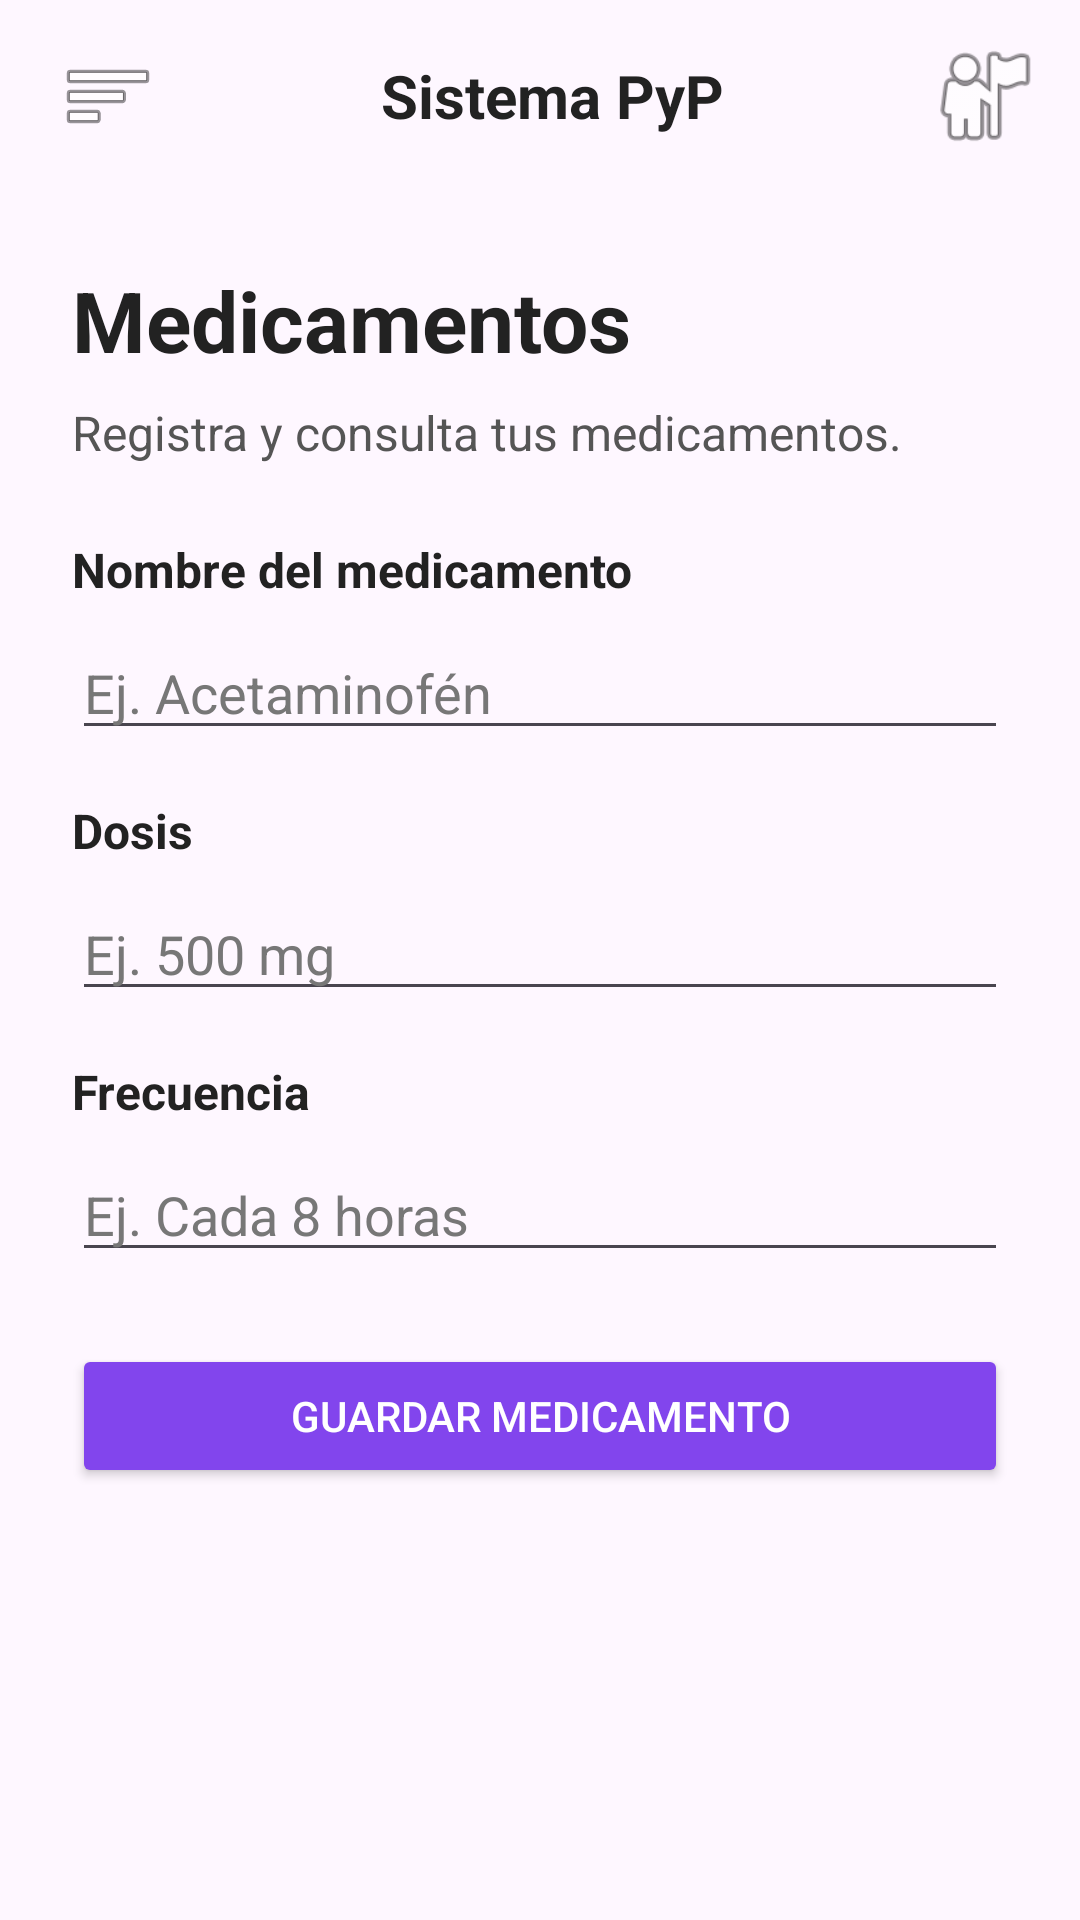

Icons on this 1080 × 1920 Android screen, each with its box as (x1, y1, x2, y2):
Abrir menú: (67, 70, 149, 123)
Perfil: (940, 51, 1030, 141)
